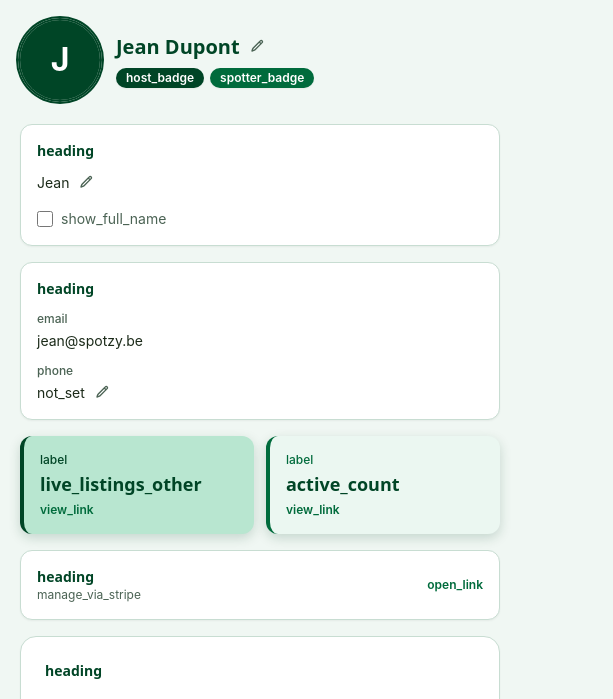
<ProfilePage /> › Edit name: pencil icon click converts to inline input
The image size is (613, 699).
Click the button with test id "edit-name".
click(256, 47)  # box [248, 39, 264, 55]
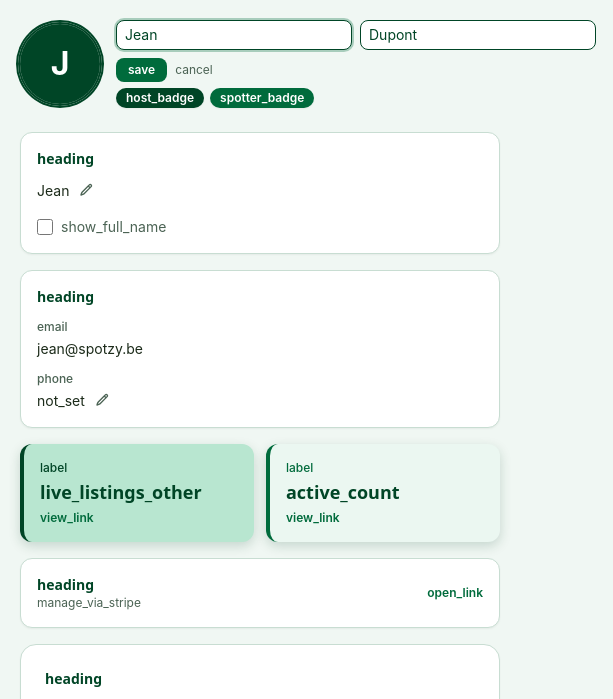
Expected: the field named "first name" is shown, [116, 20, 352, 50]
Expected: the field named "last name" is shown, [360, 20, 596, 50]
